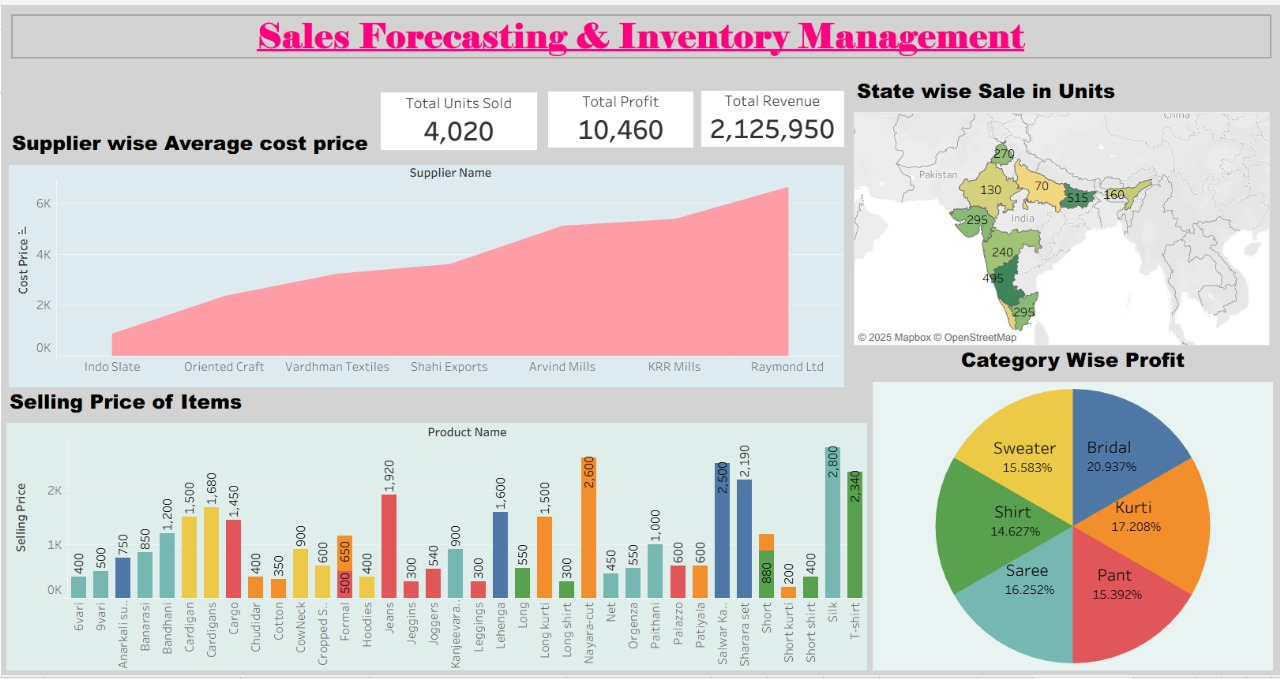

What the dashboard file says about the page in this screenshot:
{"tool":"tableau","page":{"name":"Dashboard 2","canvas":[1620,850],"ordinal":1},"visuals":[{"type":"title","box":[8,8,1604,64]},{"type":"worksheet","title":"Total Number of Units Sold by State","mark":"Automatic","box":[1079,86,527,346]},{"type":"worksheet","title":"Sheet 8","mark":"Automatic","box":[886,94,186,99]},{"type":"worksheet","title":"Sheet 7","mark":"Automatic","box":[692,95,184,108]},{"type":"worksheet","title":"Sheet 6","mark":"Text","box":[480,96,215,99]},{"type":"worksheet","title":"Suppliers and Products","mark":"Area","rows":["Cost Price"],"cols":["Supplier_Name"],"box":[9,152,1058,333]},{"type":"worksheet","title":"Category Wise Profit","mark":"Pie","box":[1103,427,507,417]},{"type":"worksheet","title":"Selling Price of Items","mark":"Bar","rows":["Selling_Price"],"cols":["Product_Name"],"box":[6,480,1091,364]}]}

Visuals, with their boxes in screenshot pixels (x1, y1, x2, y2), scaled from the page's 1620x850 canvas onto the 1280x679 screenshot:
title: bbox(6, 6, 1274, 58)
"Total Number of Units Sold by State" worksheet: bbox(853, 69, 1269, 345)
"Sheet 8" worksheet: bbox(700, 75, 847, 154)
"Sheet 7" worksheet: bbox(547, 76, 692, 162)
"Sheet 6" worksheet (Text marks): bbox(379, 77, 549, 156)
"Suppliers and Products" worksheet (Area marks): bbox(7, 121, 843, 387)
"Category Wise Profit" worksheet (Pie marks): bbox(872, 341, 1272, 674)
"Selling Price of Items" worksheet (Bar marks): bbox(5, 383, 867, 674)
